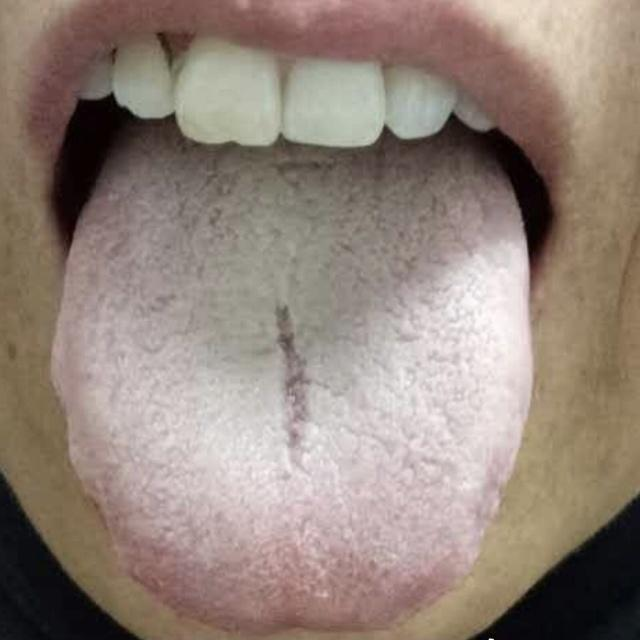baitaishe: (47, 148, 533, 633)
liewenshe: (267, 295, 318, 479)
